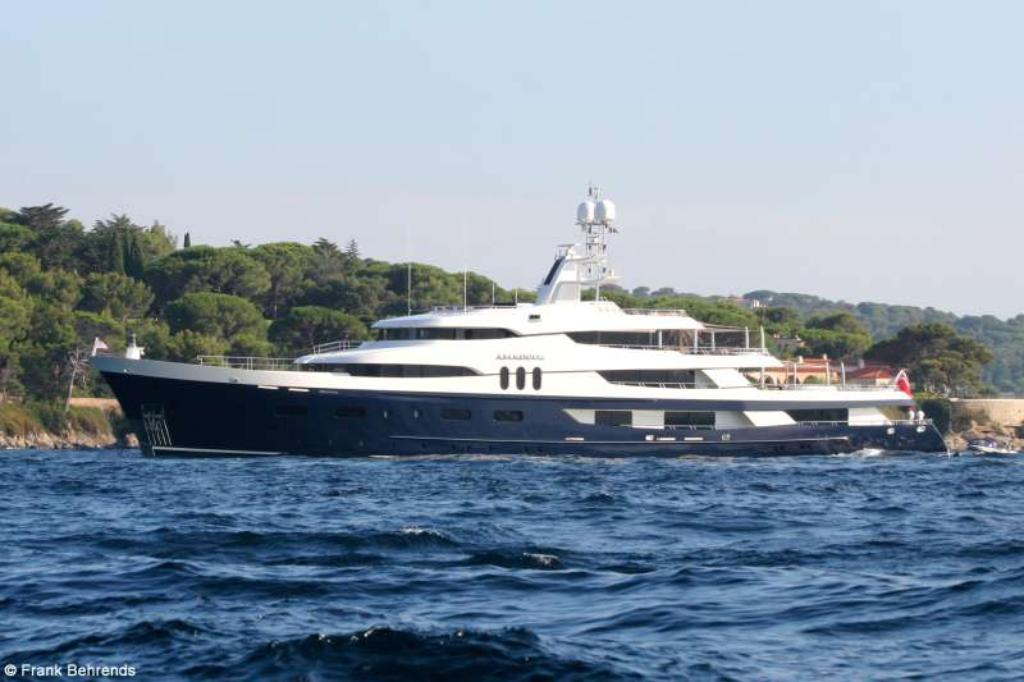PassengerShip: (84, 186, 952, 465)
